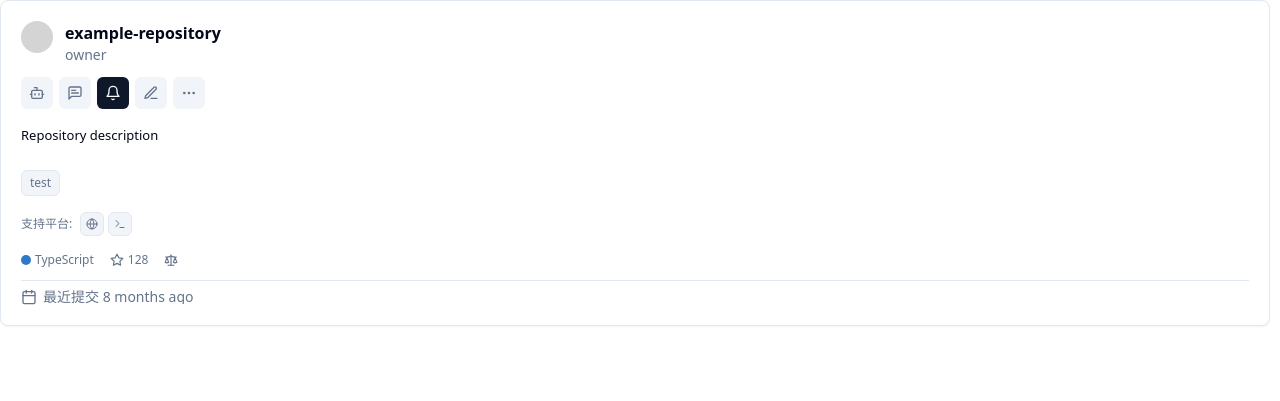
Test: RepositoryCard view modes › collapses trailing grid actions into a more-actions menu when the card is narrow
Click the button named "更多仓库操作" at (189, 93), box [173,77,205,109]
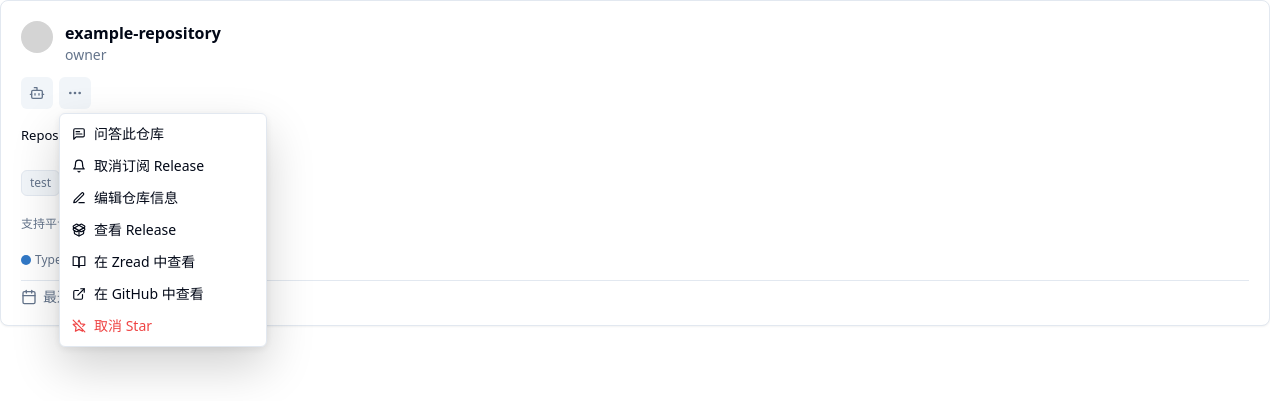
Result: the menu item "在 Zread 中查看" is shown at [72,252,195,271]
Result: the menu item "在 GitHub 中查看" is shown at [72,284,204,303]
Result: the menu item "取消 Star" is shown at [72,316,152,335]
